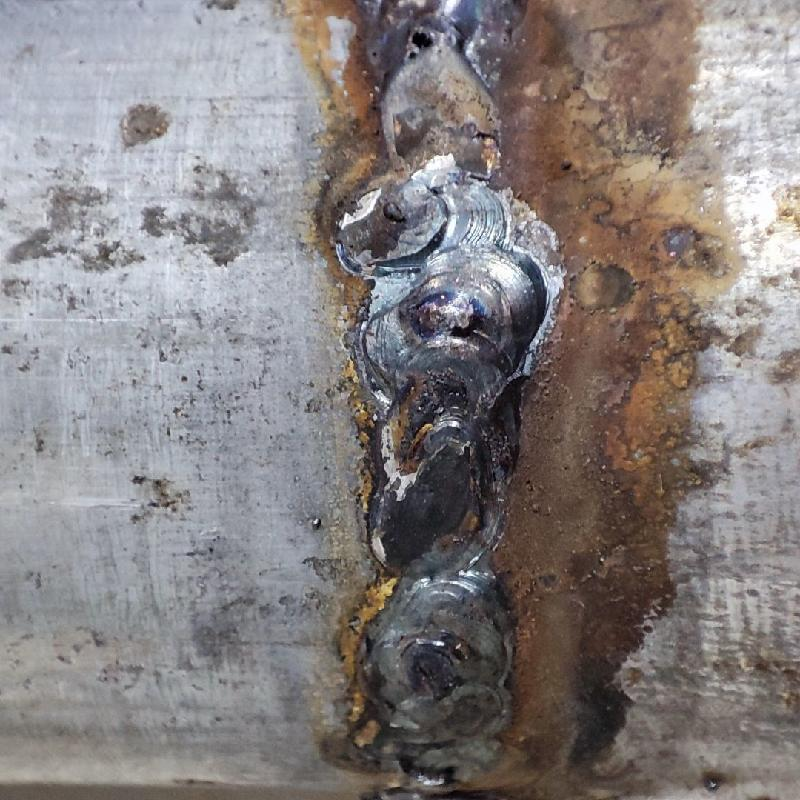Not_fully_soldered: (355, 30, 526, 255)
Surface_pores: (397, 19, 450, 69)
wrong_size: (343, 256, 544, 771)
